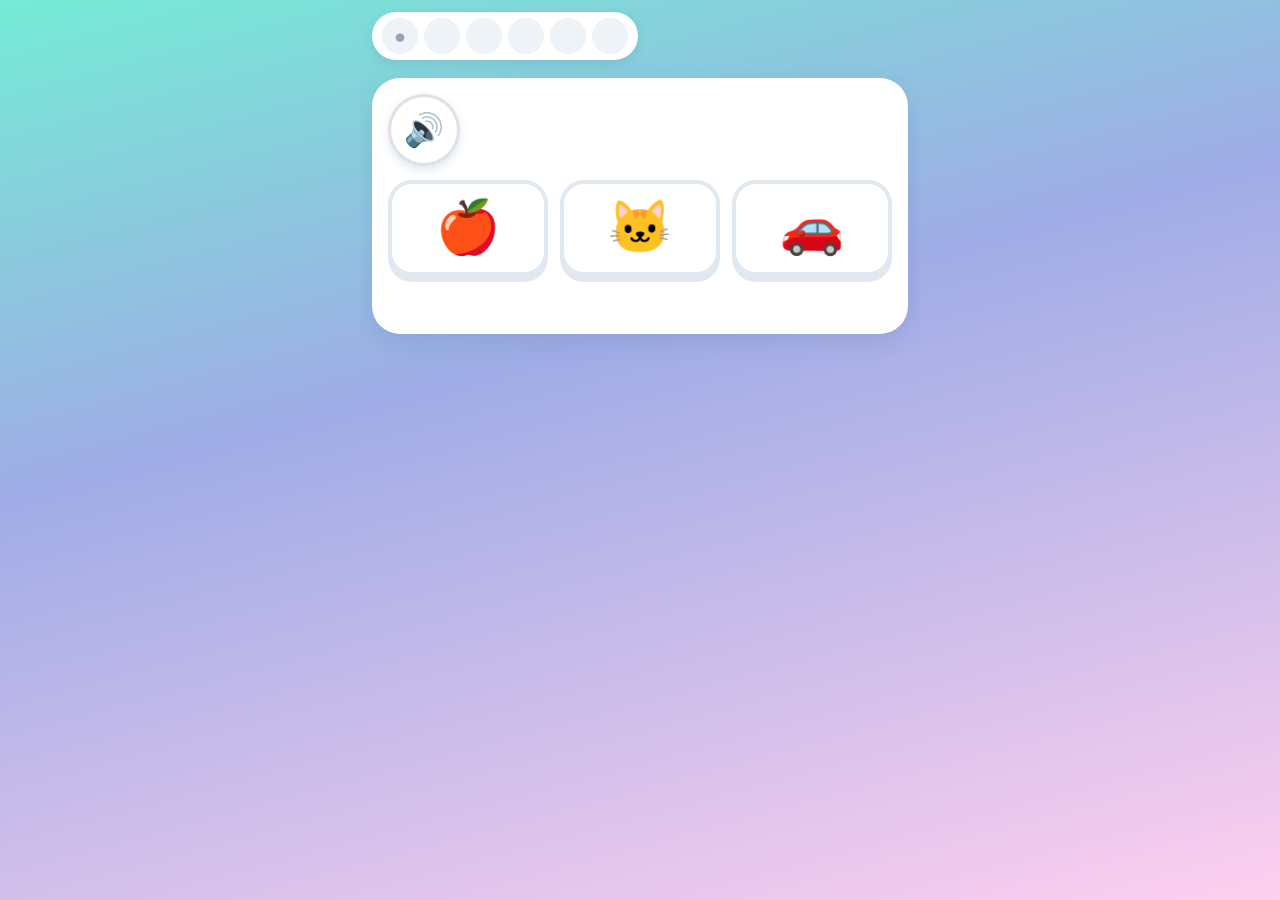
Scenario: ExerciseSession (session) › 1. yanlış ipucu, 2. yanlış cevabı gösterir ve maddeyi bir kez sona ekler
Earlier steps of the test are not shown.
Click the button named "elma" at (468, 228), box x1=388 y1=180 x2=548 y2=276
Wait 500 ms
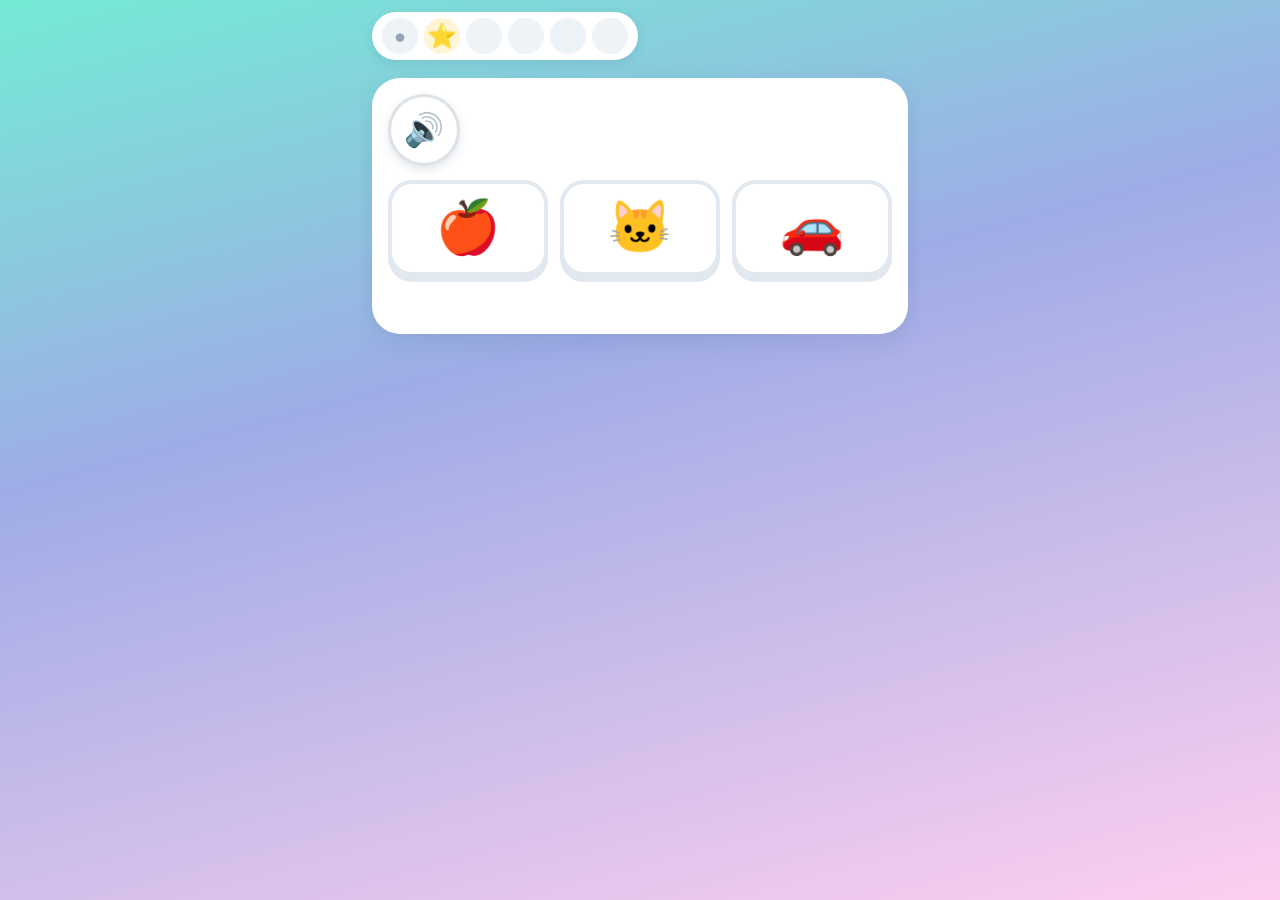
Click the button named "elma" at (468, 228), box x1=388 y1=180 x2=548 y2=276
Wait 500 ms
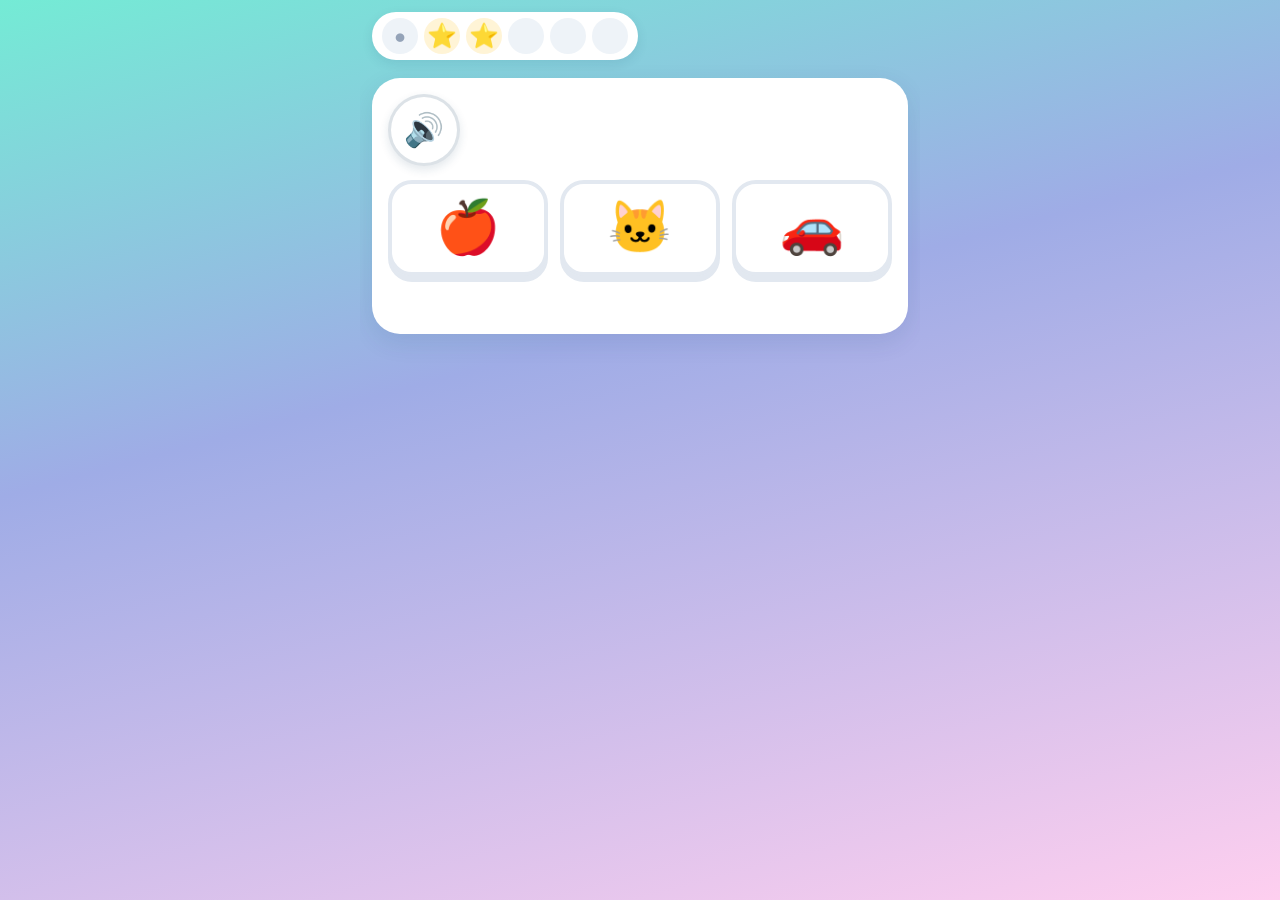
Click the button named "elma" at (468, 228), box x1=388 y1=180 x2=548 y2=276
Wait 500 ms
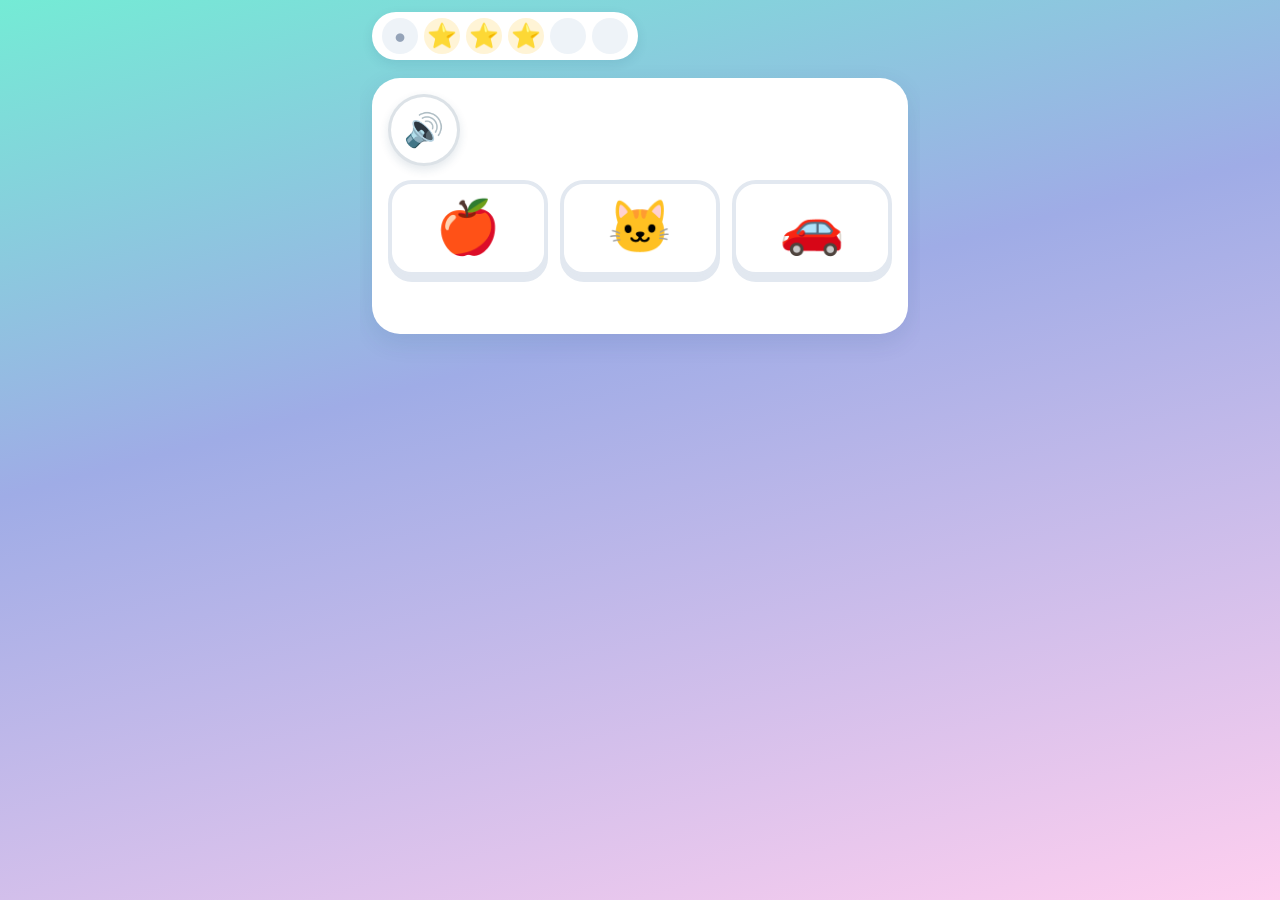
Click the button named "elma" at (468, 228), box x1=388 y1=180 x2=548 y2=276
Wait 500 ms
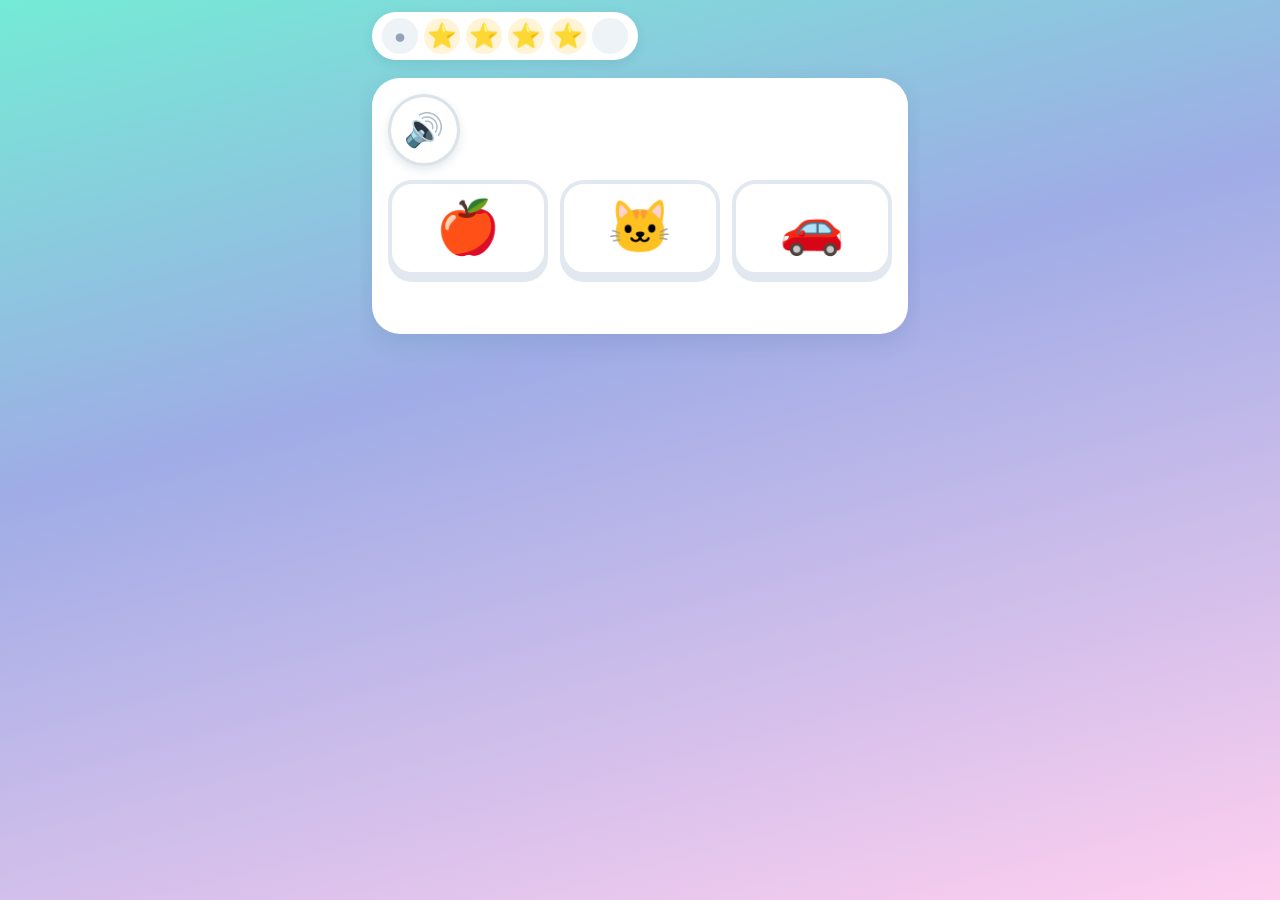
Click the button named "elma" at (468, 228), box x1=388 y1=180 x2=548 y2=276
Wait 500 ms
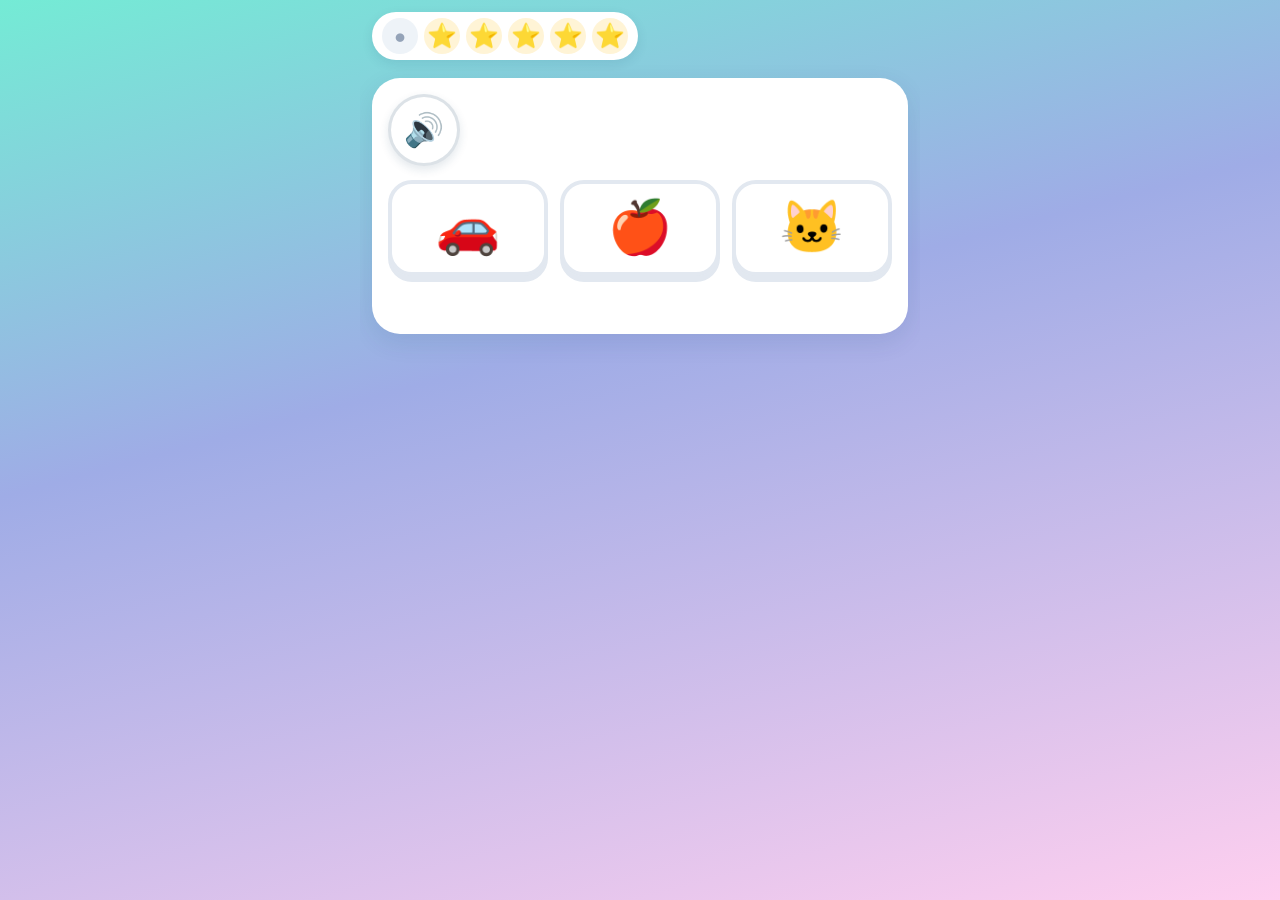
Expected: the button "Bir tane daha ⭐" is not shown
Click the button named "elma" at (640, 228), box x1=560 y1=180 x2=720 y2=276
Wait 500 ms
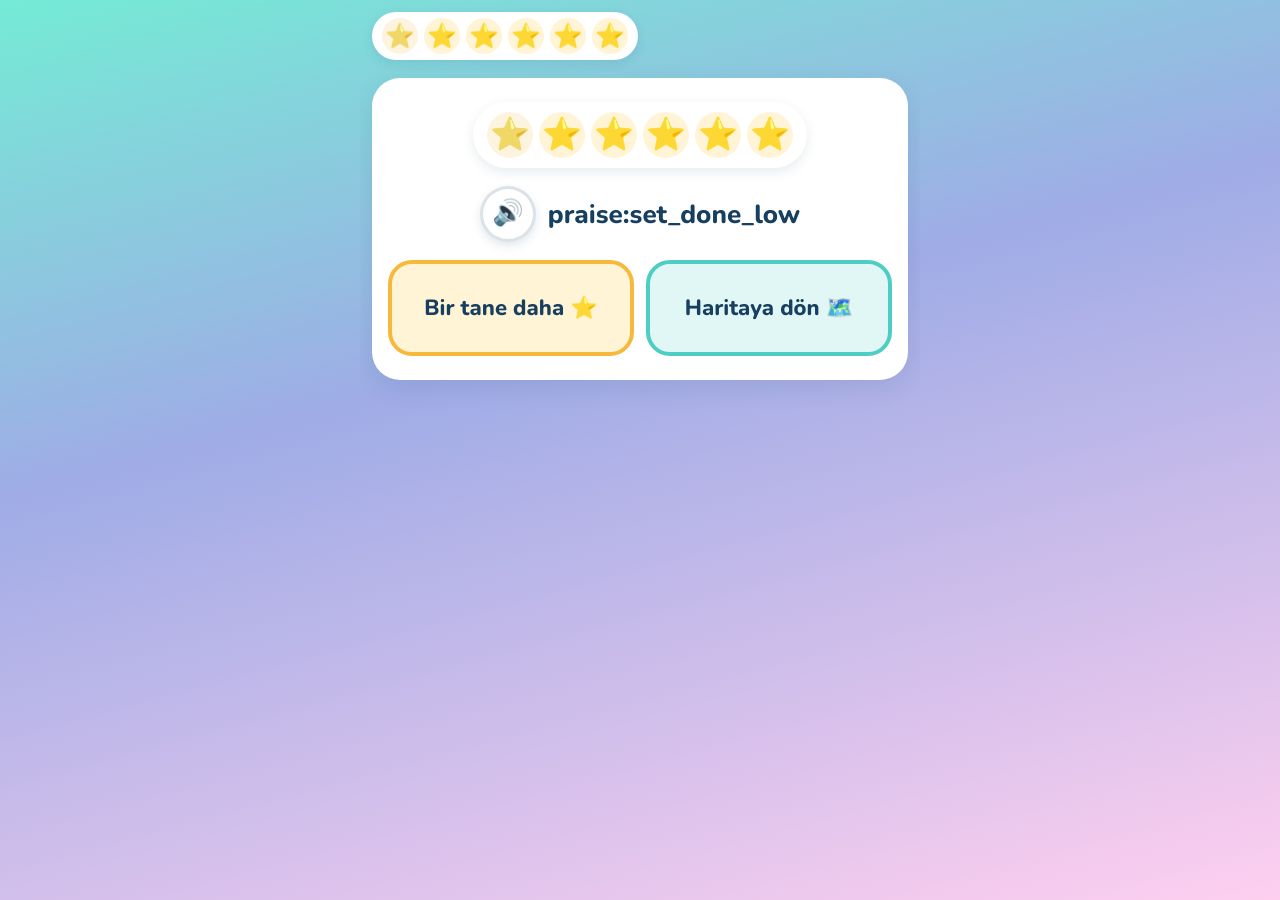
Expected: the button "Bir tane daha ⭐" is shown, x1=388 y1=260 x2=634 y2=356
